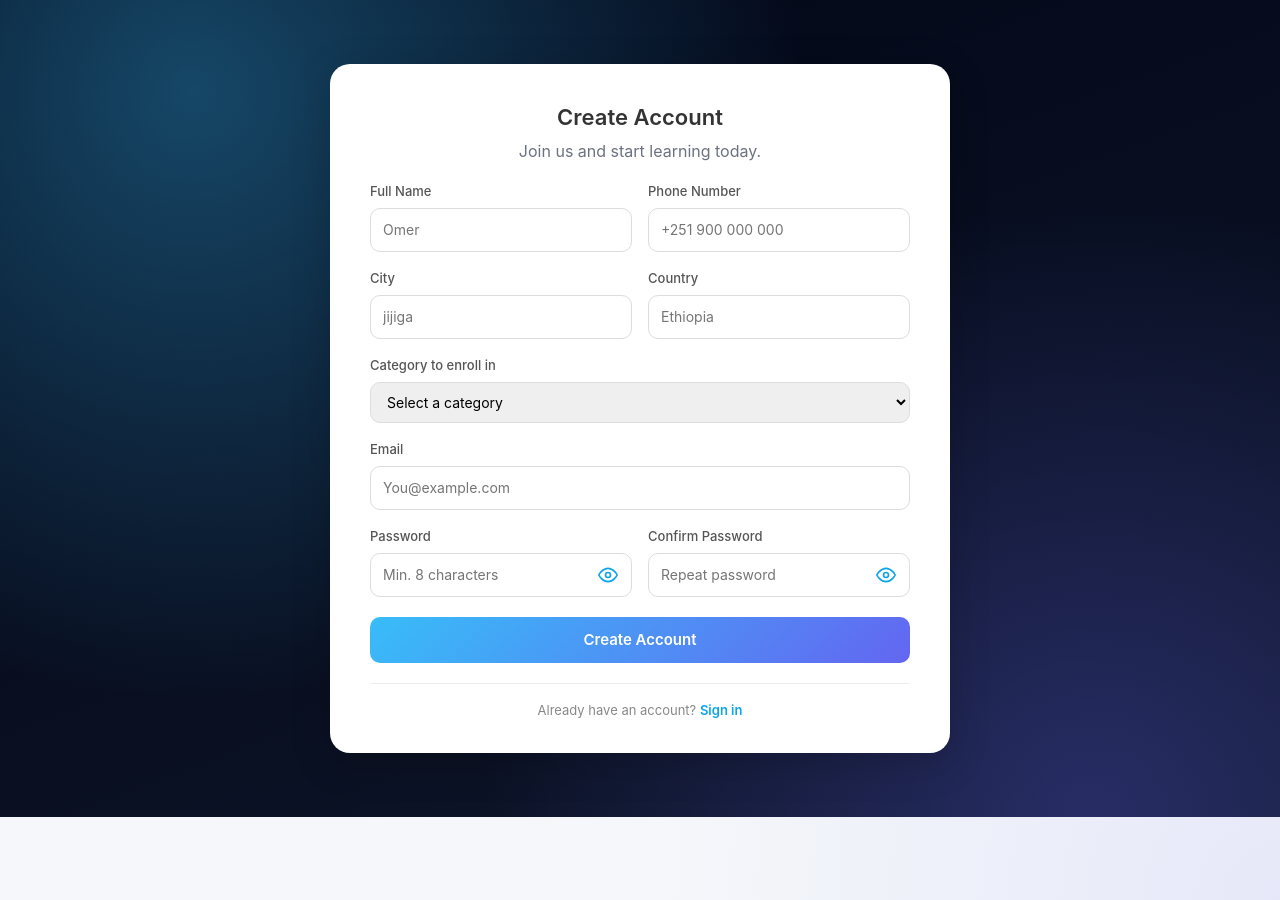
Test: Register › specific field validation › shows an error for an invalid email address
This screenshot has width=1280, height=900.
Type "not-an-email" into the field labelled "Email" at [640, 488], box [370,466,910,510]
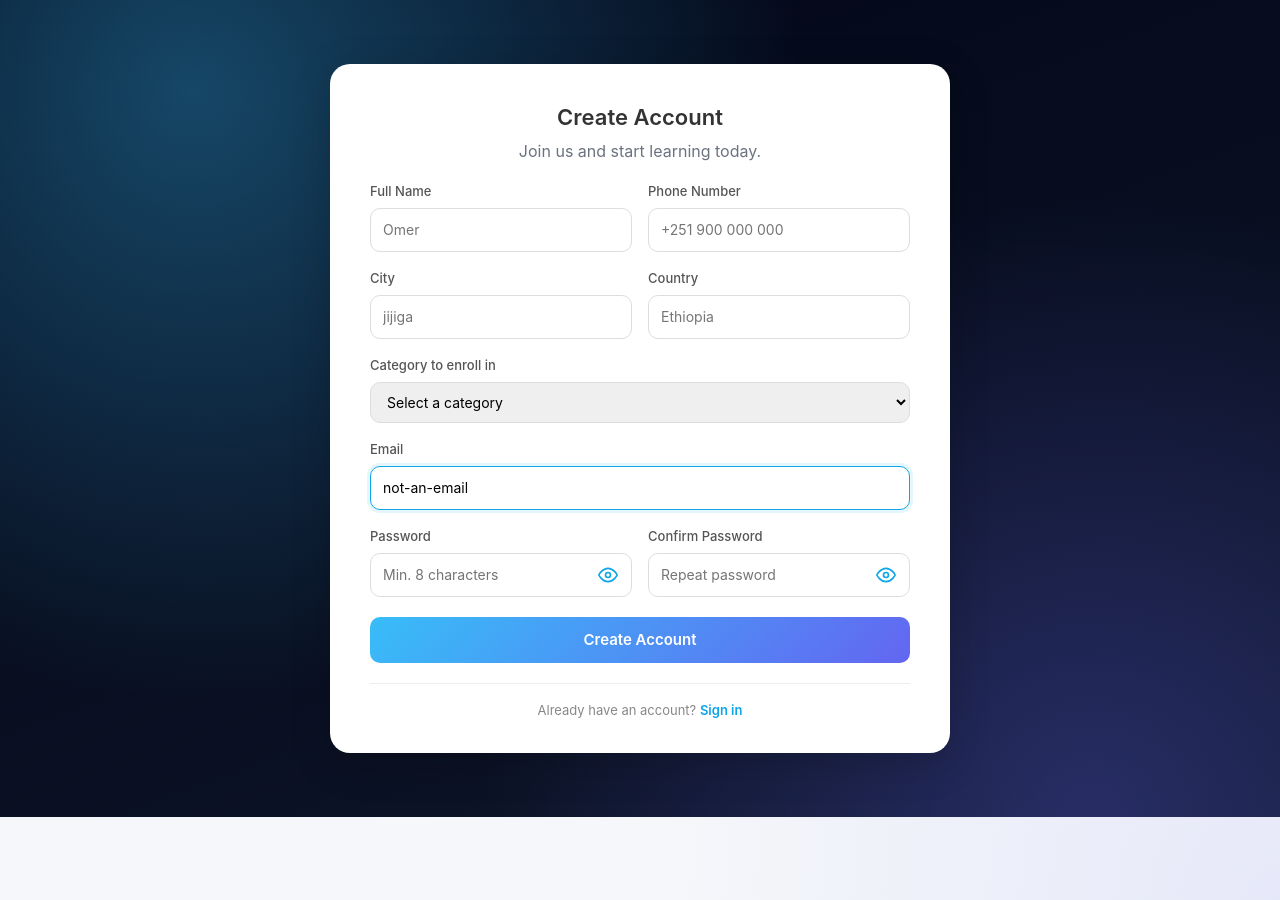
Click the button "Create Account" at [640, 640], box [370,617,910,663]
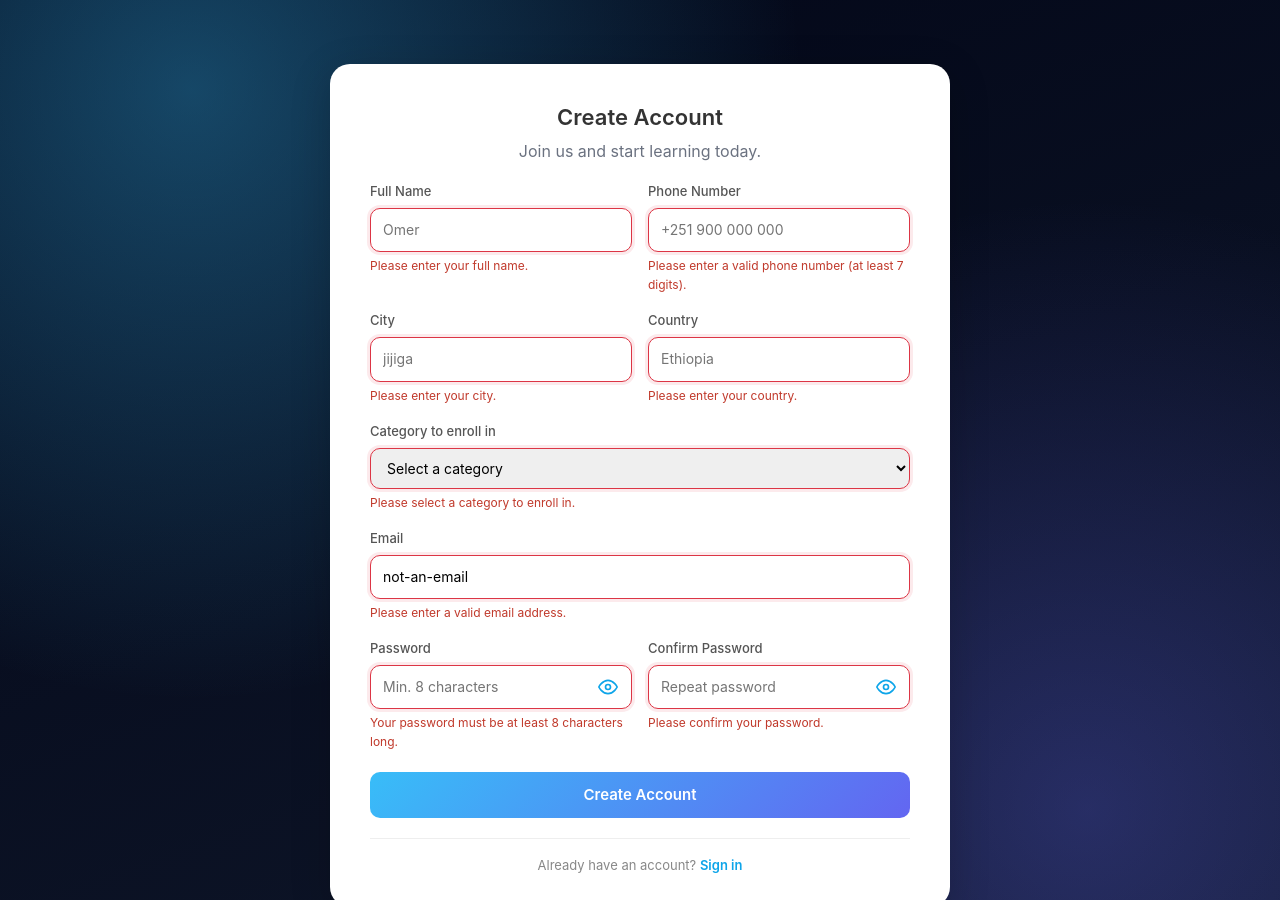
Result: the text "Please enter a valid email address." is shown at [370,605,566,620]
